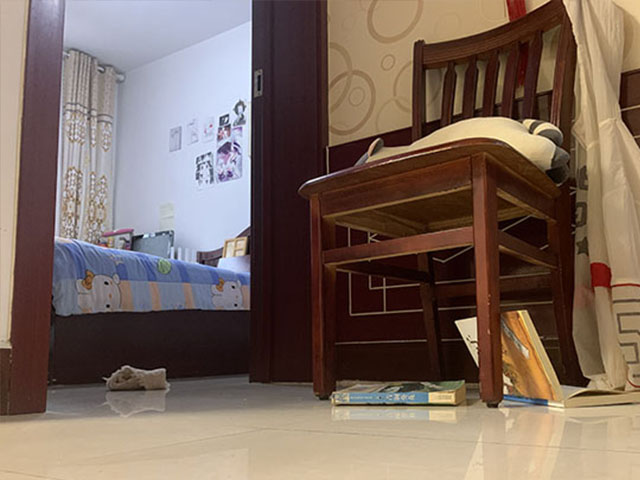bed: (48, 225, 250, 387)
book: (456, 308, 640, 409), (325, 376, 468, 408)
socks: (98, 364, 174, 392)
stool: (299, 1, 592, 409)
